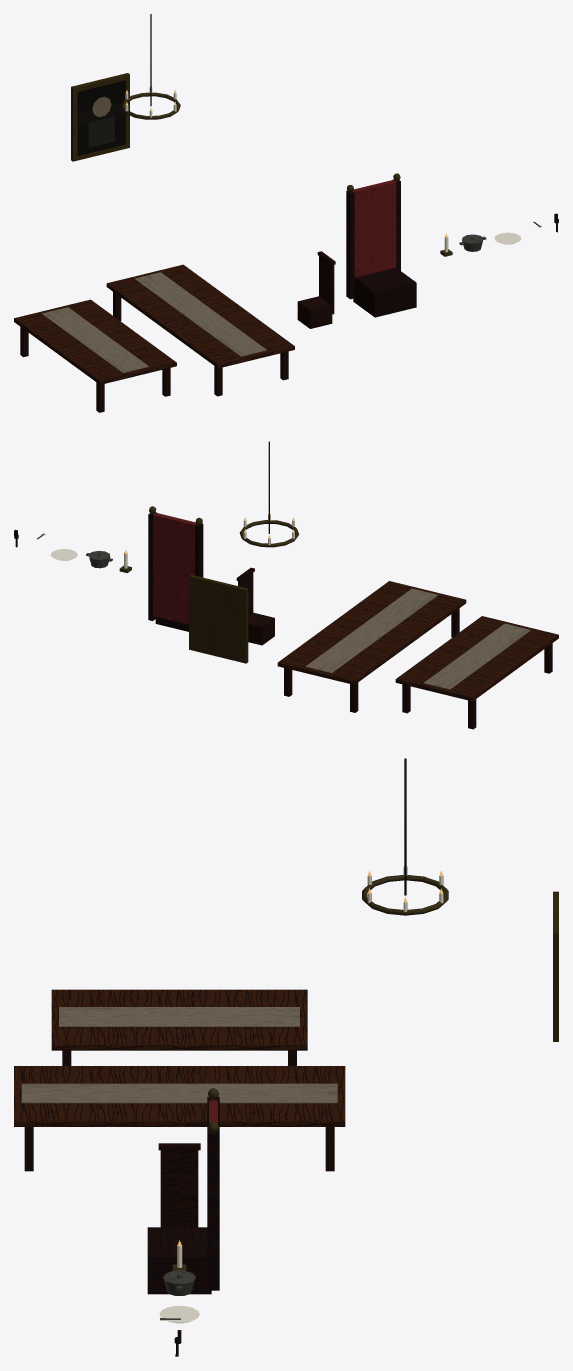
Rendered from supperclub.glb.
3 views of the same model, one above another, from view 1: azimuth 30°, elevation 25°; view 2: azimuth 150°, elevation 25°; view 3: azimuth 270°, elevation 25° (orthographic). The views are drawn at different scales.
Parts seen in each view (by area): view 1: table_44, table_34, throne, portrait, chair, chandelier; view 2: table_44, table_34, throne, portrait, chair, chandelier; view 3: table_44, table_34, throne, chair, chandelier, portrait.
Boxes of the visible parts, x1,y1,x2,y2 form: table_44: (106,264,294,396); table_34: (14,299,176,412); throne: (346,173,416,317); portrait: (71,73,129,161); chair: (297,251,335,328); chandelier: (121,14,180,119); table_44: (277,581,466,712); table_34: (395,616,558,729); throne: (148,506,203,631); portrait: (189,574,248,663); chair: (236,567,274,645); chandelier: (239,441,299,547); table_44: (14,1066,345,1171); table_34: (51,989,307,1065); throne: (147,1088,219,1294); chair: (158,1143,200,1227); chandelier: (362,758,448,915); portrait: (553,891,558,1041).
Bounding box in the file's own units: 11.41 × 5.95 × 7.24.
Materials: 20 (14 with a texture image).
